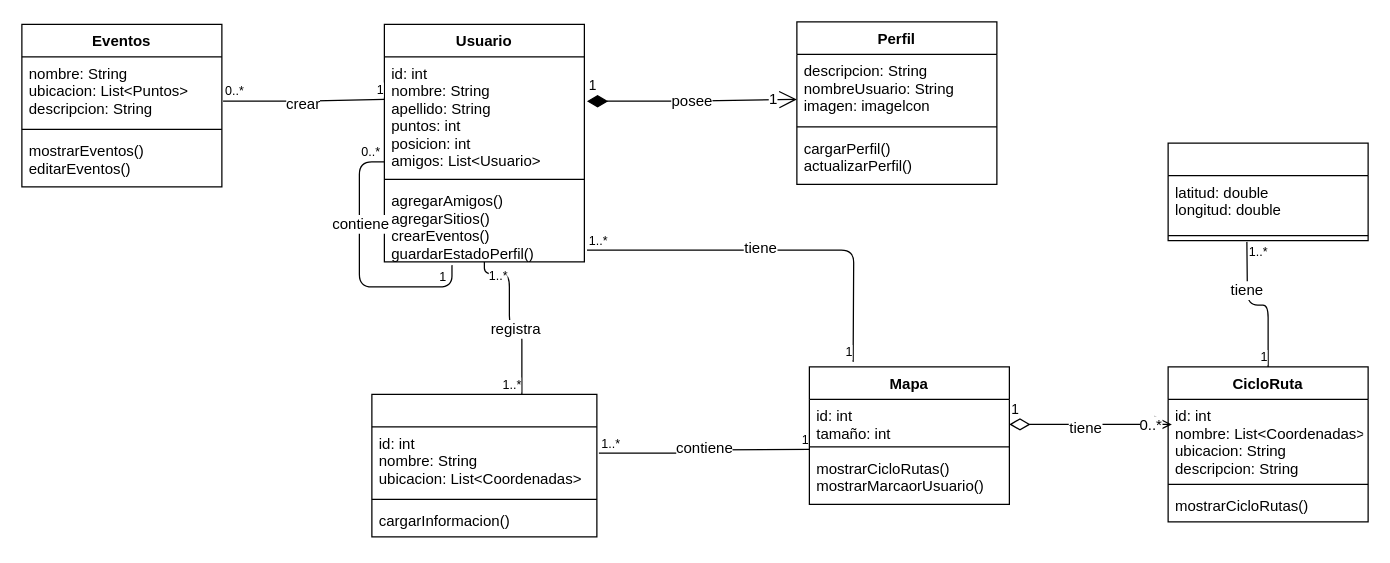
Some shapes in this 1390 by 563 pixel diagram are drawn without their labels. The box of each missing label's shape, as (x1, y1, x2, y2) in pixels:
Coordenadas: (1167, 142, 1368, 241)
SitioDeInteres: (371, 393, 597, 537)
